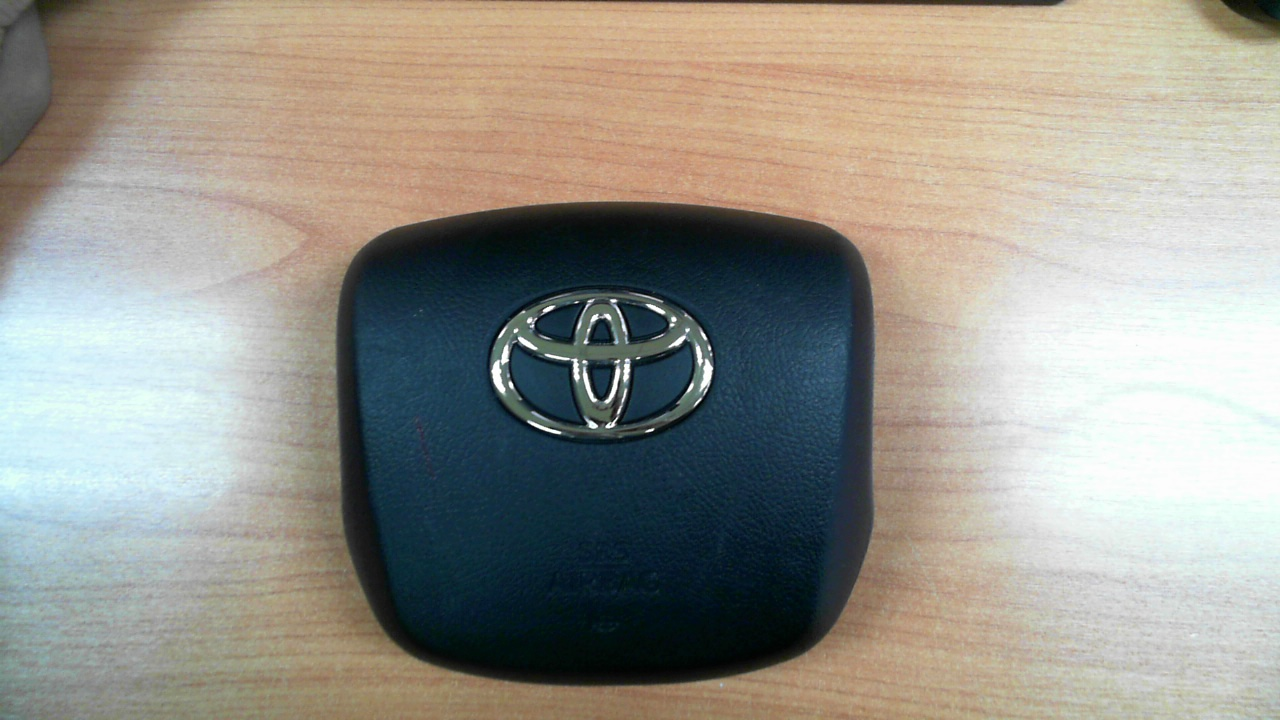Airbag: (324, 206, 871, 684)
Toyota: (489, 288, 715, 440)
